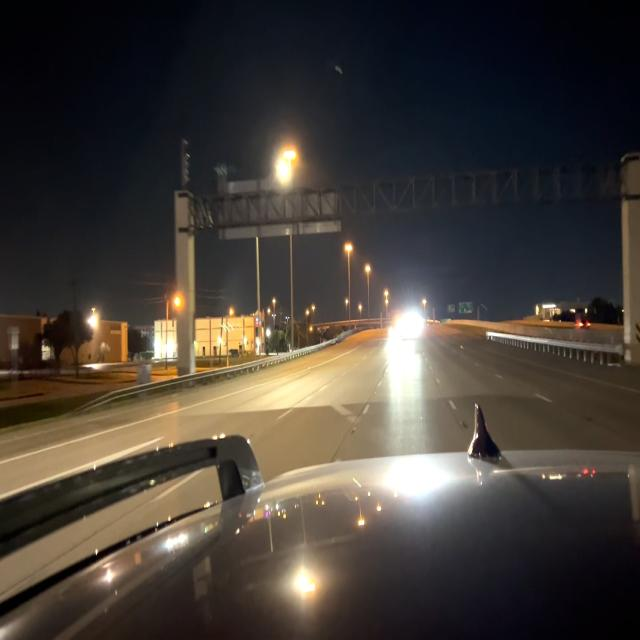back-of-sign: (216, 180, 340, 233)
